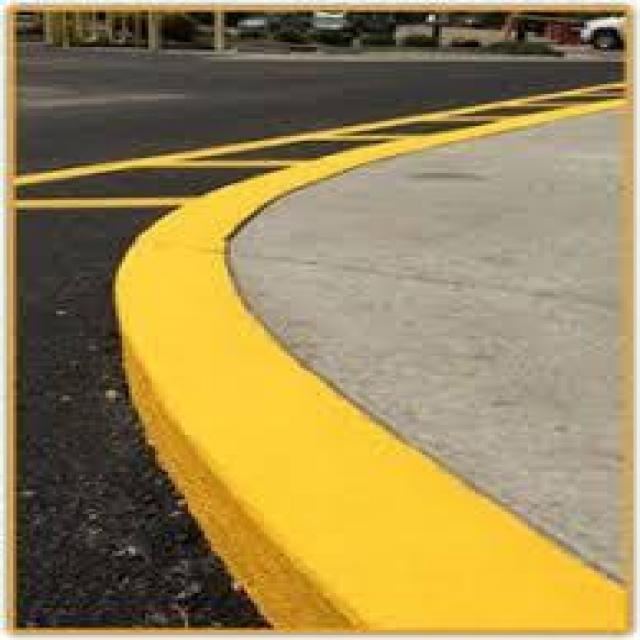curb: (147, 377, 626, 626), (116, 204, 279, 410)
